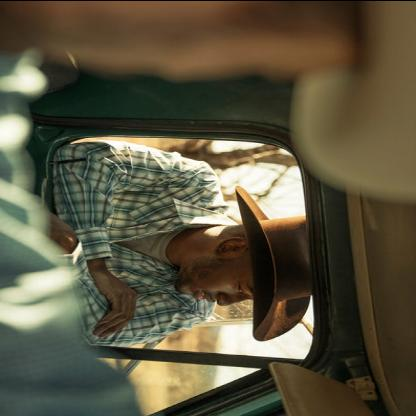hat: (225, 182, 330, 344)
